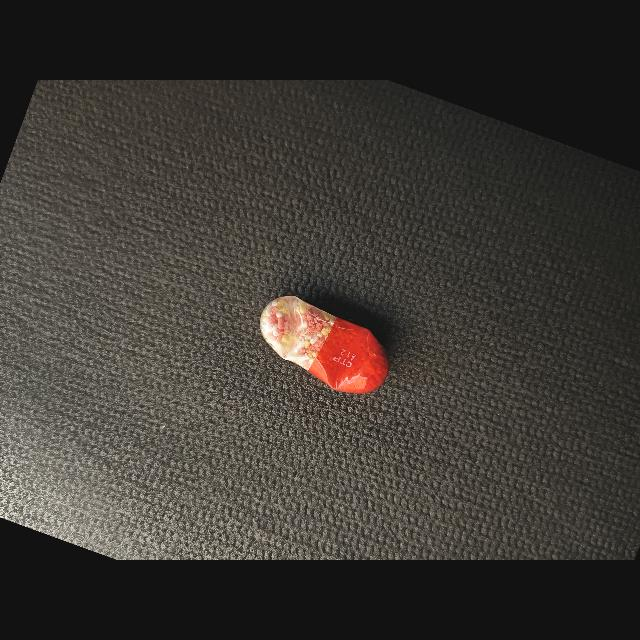Defective Capsule: (260, 296, 388, 394)
